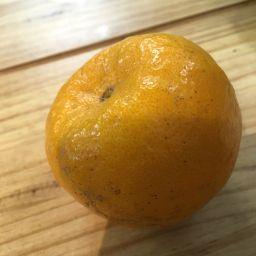Ripe: (46, 35, 243, 224)
